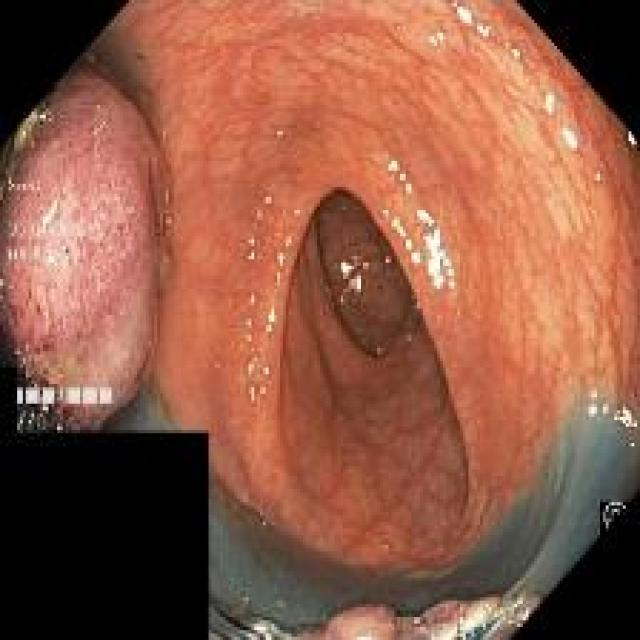Polyps: (2, 73, 159, 430)
